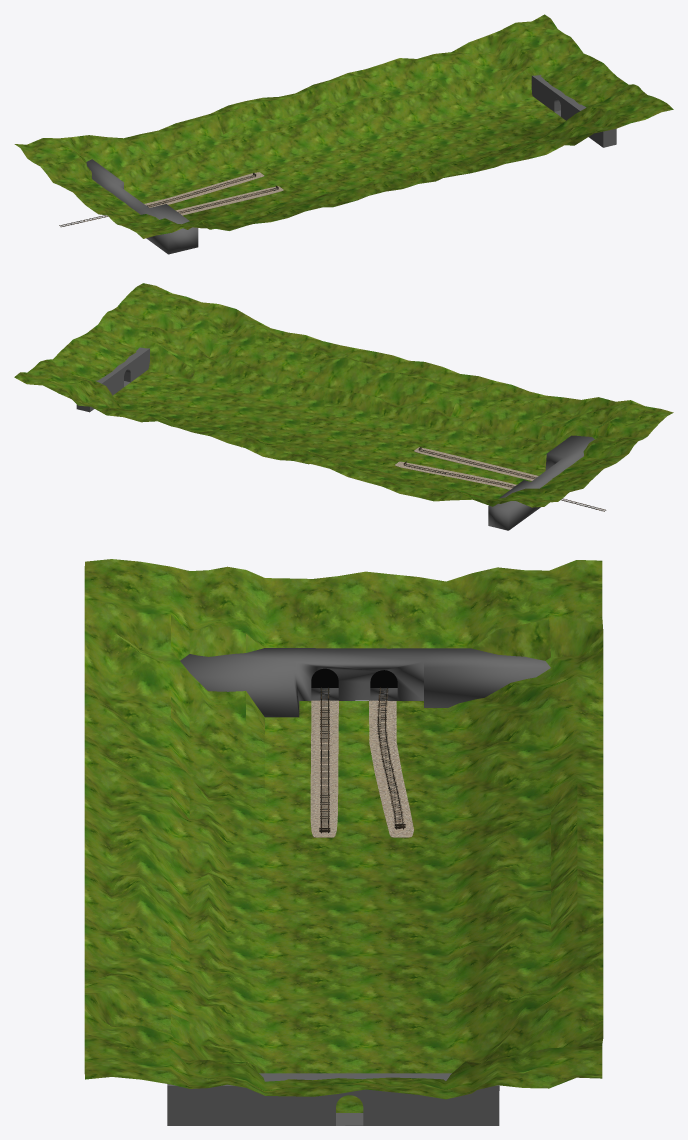
The model's file is Map_Final 1.fbx.
The picture shows the model from 3 angles, top to bottom: view 1: azimuth 30°, elevation 25°; view 2: azimuth 150°, elevation 25°; view 3: azimuth 270°, elevation 25°; orthographic projection. The views are drawn at different scales.
Visible parts, largest first — view 1: Cube.012, Plane.005, Cube.011, Cube.013; view 2: Cube.012, Plane.005, Cube.011, Cube.013; view 3: Cube.012, Cube.011, Plane.005, Cube.013, Plane.004.
Part boxes in pixels (x1=…): Cube.012: x1=14, y1=14, x2=673, y2=254; Plane.005: x1=144, y1=172, x2=283, y2=215; Cube.011: x1=531, y1=75, x2=616, y2=147; Cube.013: x1=59, y1=175, x2=277, y2=227; Cube.012: x1=14, y1=283, x2=673, y2=530; Plane.005: x1=395, y1=447, x2=538, y2=489; Cube.011: x1=76, y1=347, x2=149, y2=412; Cube.013: x1=404, y1=449, x2=606, y2=511; Cube.012: x1=84, y1=559, x2=603, y2=1112; Cube.011: x1=167, y1=1073, x2=499, y2=1125; Plane.005: x1=310, y1=700, x2=413, y2=837; Cube.013: x1=320, y1=687, x2=404, y2=832; Plane.004: x1=311, y1=668, x2=397, y2=687.
Size of the model in its own units: 110782 by 8751 by 46235.
5 materials, 3 textured.
